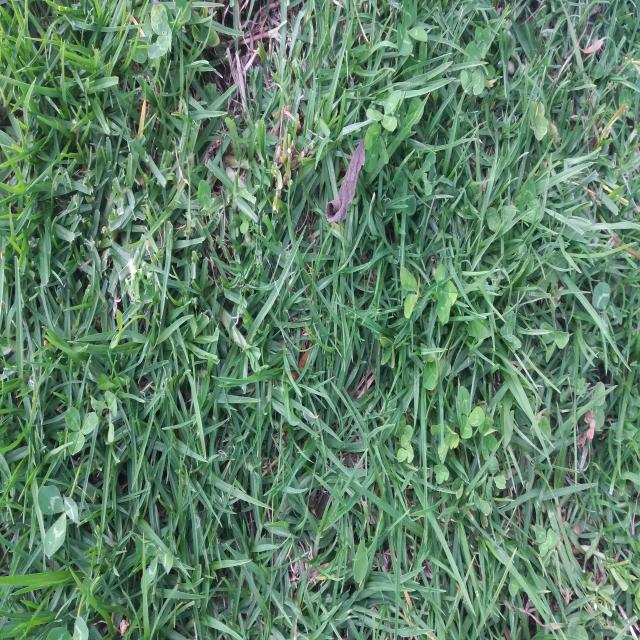Four Leaf Clover: (435, 263, 458, 324), (530, 101, 549, 141)
